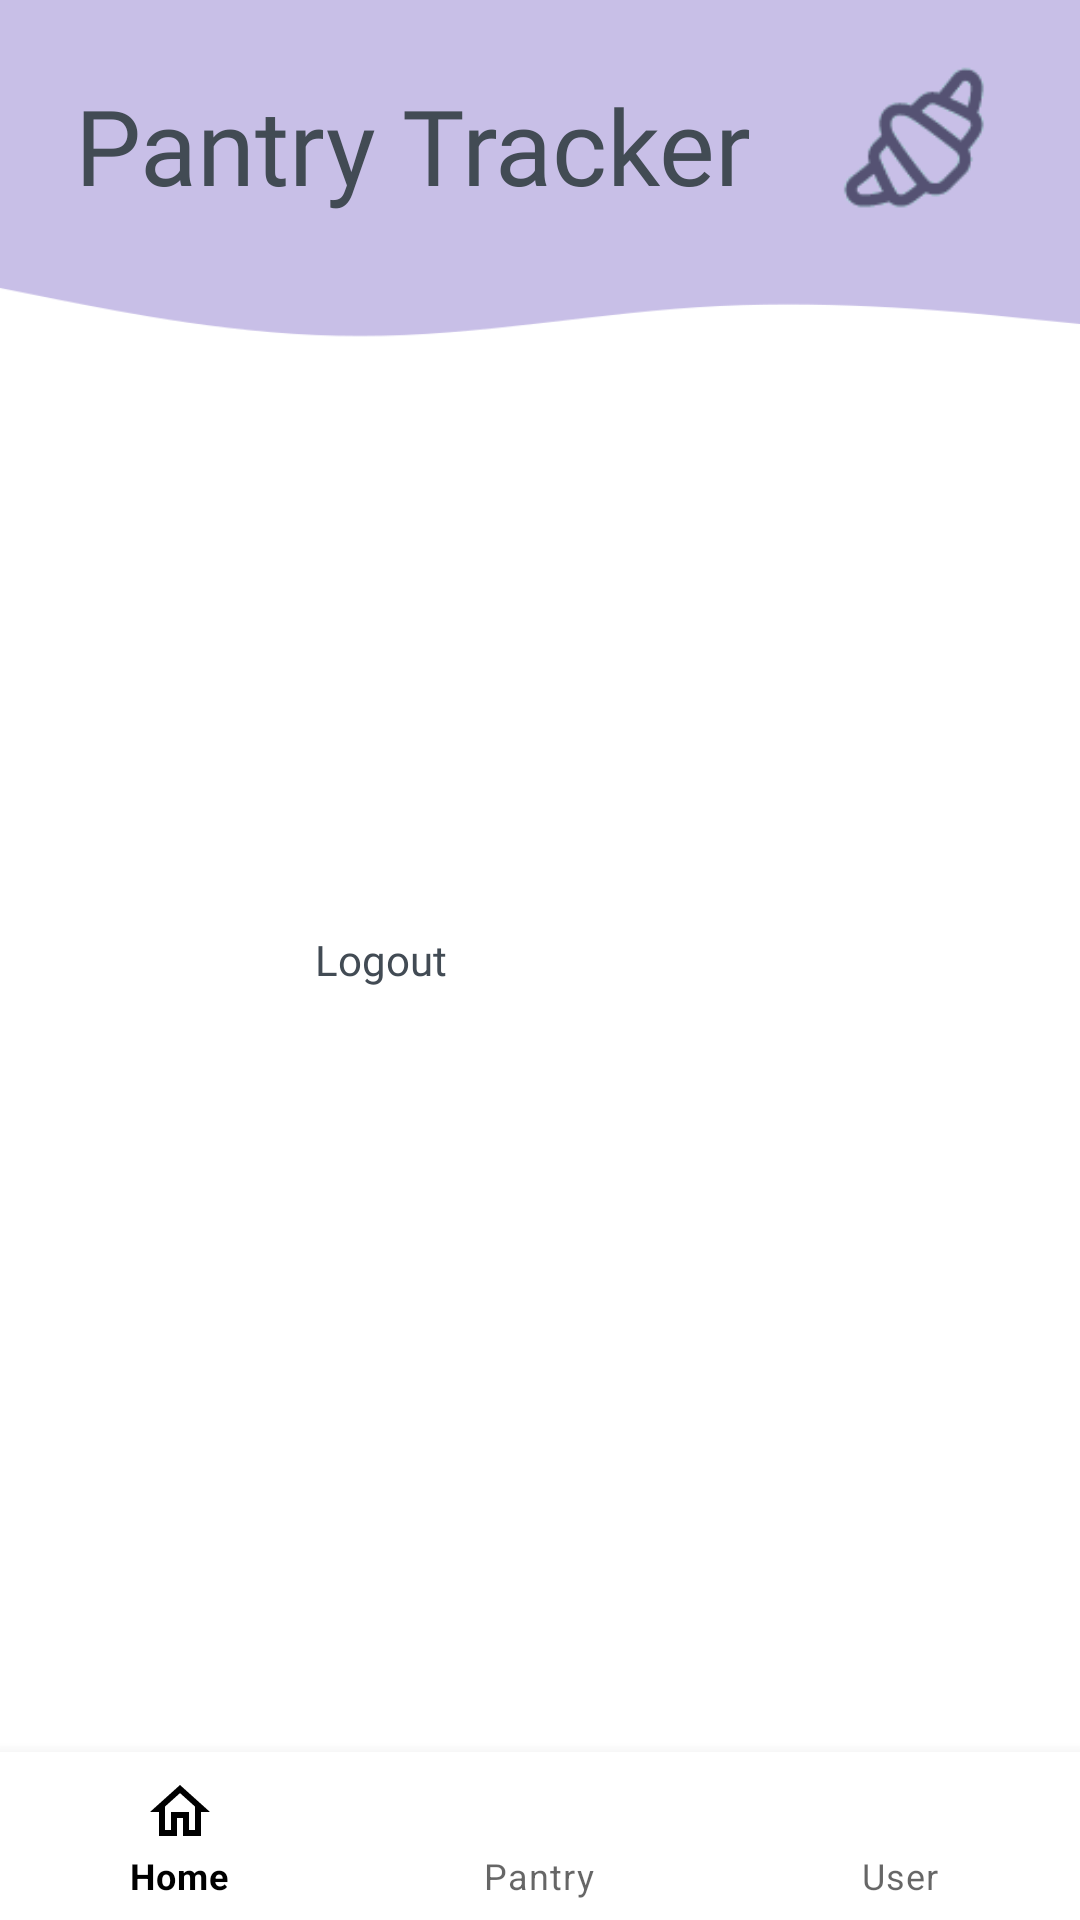

Icon click points for this 1080x1920 phone screenshot, format [x,y]:
croissant: [914,137]
